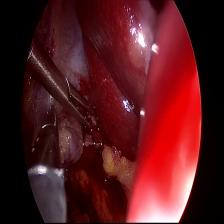Grasper: (57, 64, 98, 142), (23, 101, 62, 174)
